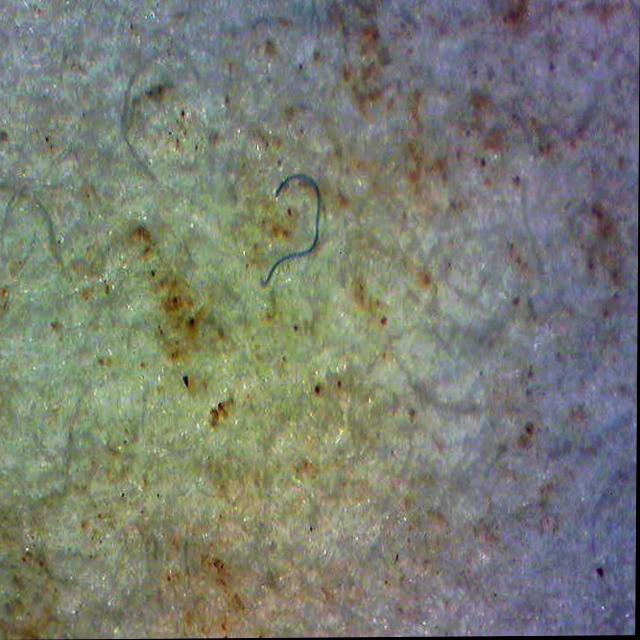microplastic: (266, 175, 321, 286)
